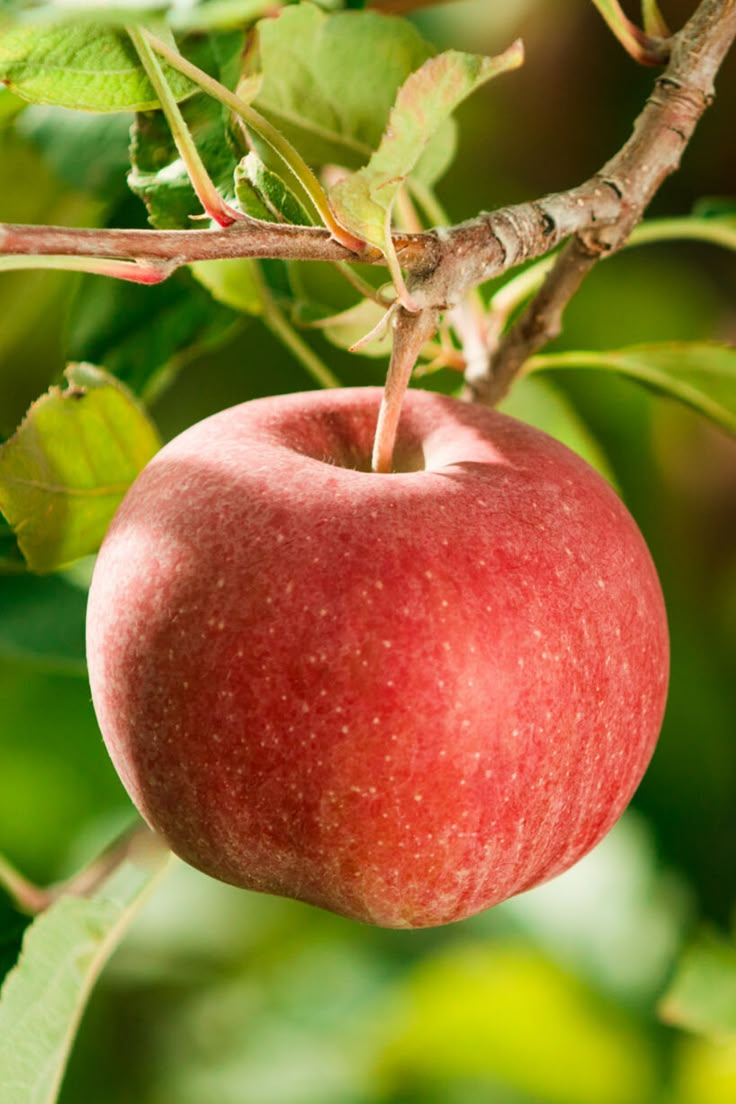apple/: (60, 393, 696, 954)
